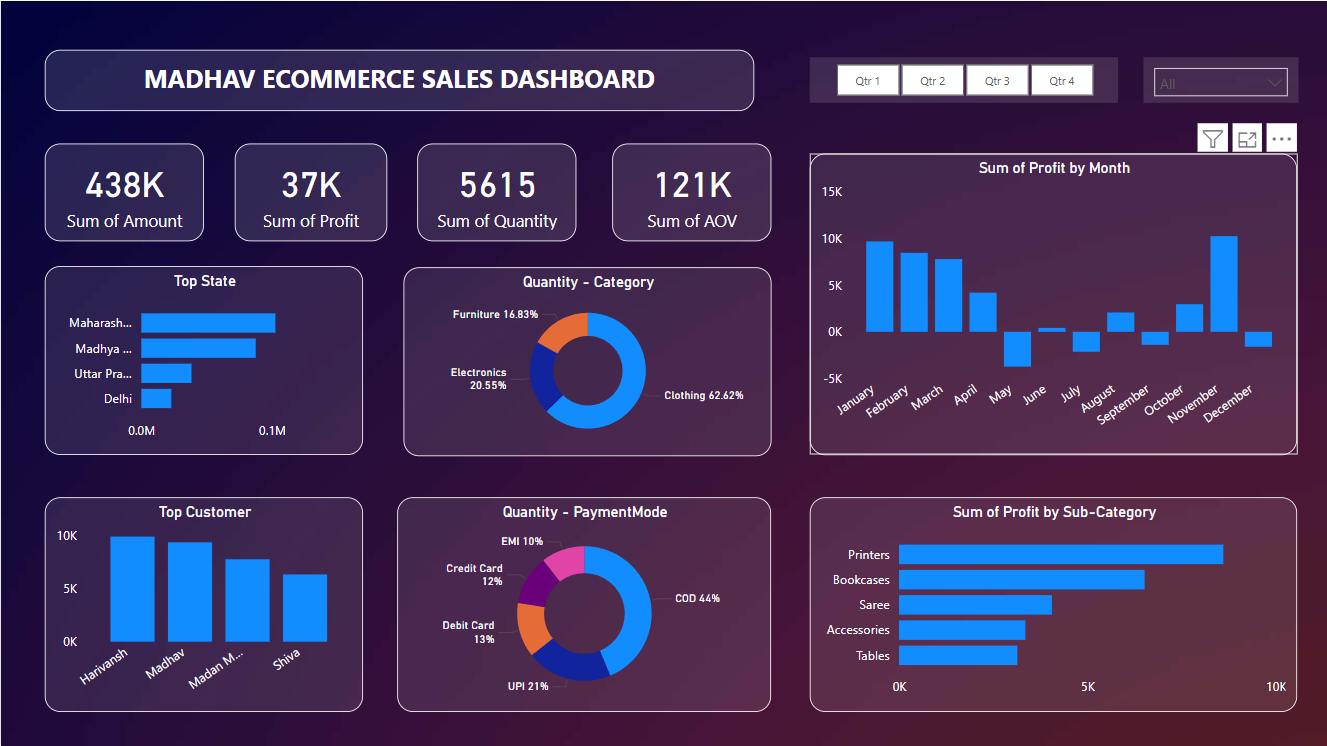

The page's visual inventory and layout, read from the dashboard file:
{"tool":"powerbi","page":{"name":"Page 1","canvas":[1280,720],"ordinal":0},"visuals":[{"type":"textbox","box":[42.5,46.7,684.7,59],"z":0},{"type":"card","fields":{"Values":["Details.Amount"]},"box":[42.5,137.2,153.7,94.7],"z":1000},{"type":"card","fields":{"Values":["Details.Profit"]},"box":[225,137.2,146.8,94.7],"z":2000},{"type":"card","fields":{"Values":["Details.Quantity"]},"box":[402.1,137.2,153.7,94.7],"z":3000},{"type":"donutChart","title":"Quantity - Category","fields":{"Y":["Details.Quantity"],"Category":["Details.Category"]},"box":[388.3,256.6,355.4,182.5],"z":4000},{"type":"donutChart","title":"Quantity - PaymentMode","fields":{"Y":["Details.Quantity"],"Category":["Details.PaymentMode"]},"box":[382.8,478.9,360.9,207.2],"z":5000},{"type":"clusteredBarChart","fields":{"Y":["Details.Profit"],"Category":["Details.Sub-Category"]},"box":[780.8,478.9,470.7,207.2],"z":6000},{"type":"lineClusteredColumnComboChart","title":"Top Customer","fields":{"Category":["Orders.CustomerName"],"Y":["Details.Amount"]},"box":[42.5,478.9,307.4,207.2],"z":7000},{"type":"clusteredBarChart","title":"Top State","fields":{"Category":["Orders.State"],"Y":["Details.Amount"]},"box":[42.5,255.2,307.4,182.5],"z":8000},{"type":"slicer","fields":{"Values":["Orders.Order Date.Variation.Date Hierarchy.Month"]},"box":[1102.3,54.6,149.2,43.8],"z":9000},{"type":"columnChart","fields":{"Y":["Details.Profit"],"Category":["Orders.Order Date.Variation.Date Hierarchy.Month"]},"box":[780.8,146.8,470.7,290.9],"z":10000},{"type":"card","fields":{"Values":["Details.AOV"]},"box":[590.1,137.2,153.7,94.7],"z":11000},{"type":"slicer","fields":{"Values":["Orders.Order Date.Variation.Date Hierarchy.Quarter"]},"box":[780.6,53.1,298,44.6],"z":12000}]}

Visuals, with their boxes in screenshot pixels (x1, y1, x2, y2), scaled from the page's 1280x720 canvas onto the 1327x746 screenshot:
textbox: crop(44, 48, 754, 110)
card - Details.Amount: crop(44, 142, 203, 240)
card - Details.Profit: crop(233, 142, 385, 240)
card - Details.Quantity: crop(417, 142, 576, 240)
"Quantity - Category" donutChart: crop(403, 266, 771, 455)
"Quantity - PaymentMode" donutChart: crop(397, 496, 771, 711)
clusteredBarChart - Details.Profit x Details.Sub-Category: crop(809, 496, 1297, 711)
"Top Customer" lineClusteredColumnComboChart: crop(44, 496, 363, 711)
"Top State" clusteredBarChart: crop(44, 264, 363, 454)
slicer - Orders.Order Date.Variation.Date Hierarchy.Month: crop(1143, 57, 1297, 102)
columnChart - Details.Profit x Orders.Order Date.Variation.Date Hierarchy.Month: crop(809, 152, 1297, 454)
card - Details.AOV: crop(612, 142, 771, 240)
slicer - Orders.Order Date.Variation.Date Hierarchy.Quarter: crop(809, 55, 1118, 101)
